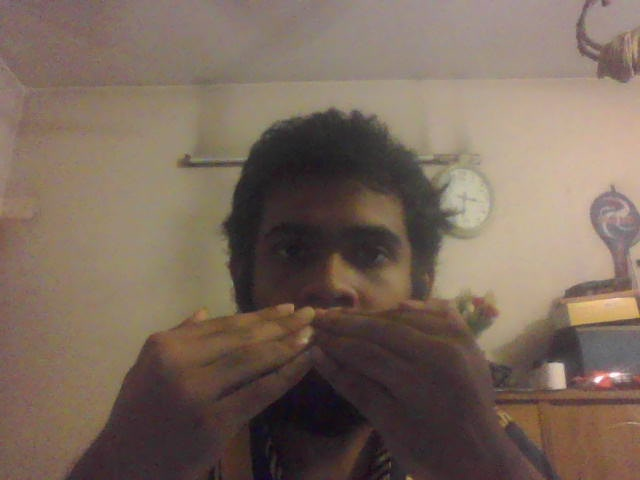Thank You: (120, 299, 512, 480)
